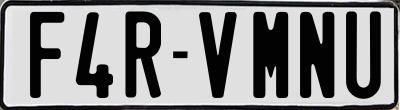4: (74, 12, 112, 101)
F: (29, 12, 68, 103)
M: (251, 10, 287, 96)
N: (299, 9, 336, 100)
R: (123, 11, 163, 98)
U: (346, 8, 387, 96)
V: (198, 9, 242, 96)
